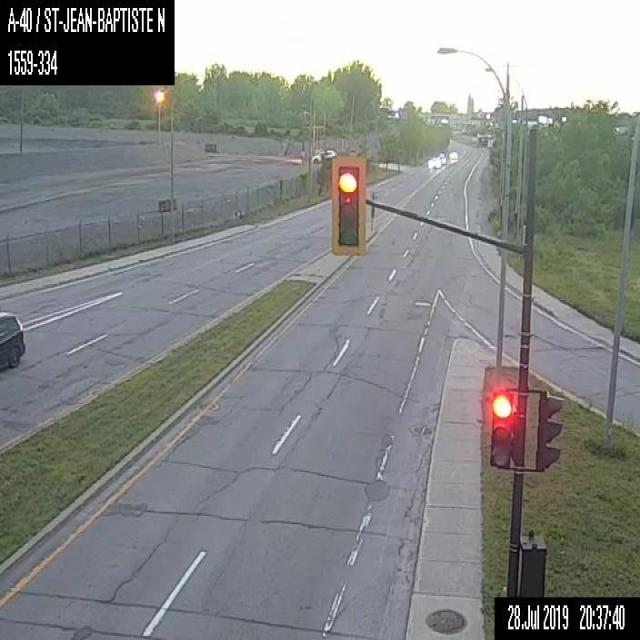vehicle: (0, 308, 25, 370), (312, 150, 333, 164), (427, 156, 440, 168), (437, 152, 446, 164), (448, 150, 458, 158)
